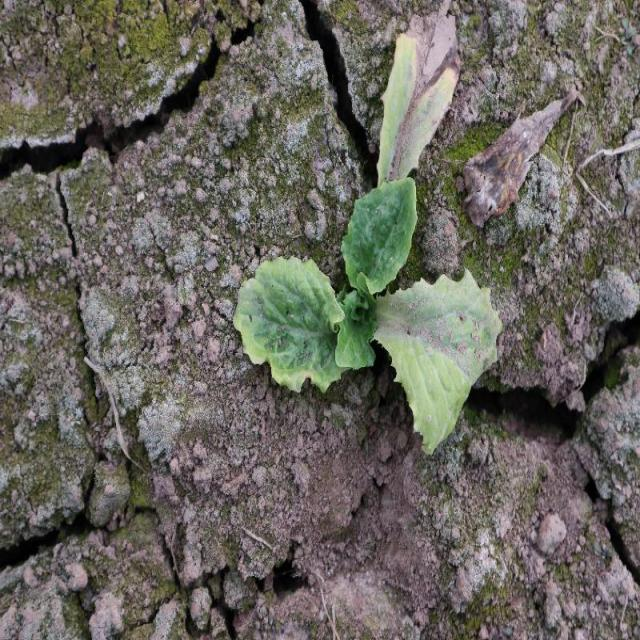crop: (233, 175, 504, 459)
